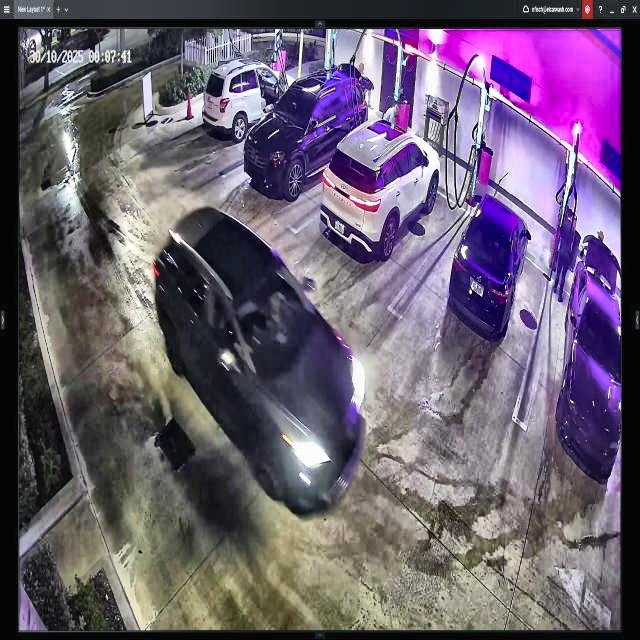Car: (152, 206, 367, 522), (320, 112, 440, 260), (245, 68, 368, 194), (449, 193, 529, 337)
